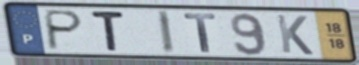9: (229, 11, 269, 56)
I: (154, 9, 177, 55)
K: (274, 13, 316, 57)
P: (43, 8, 86, 51)
T: (88, 9, 127, 53), (181, 12, 218, 54)
